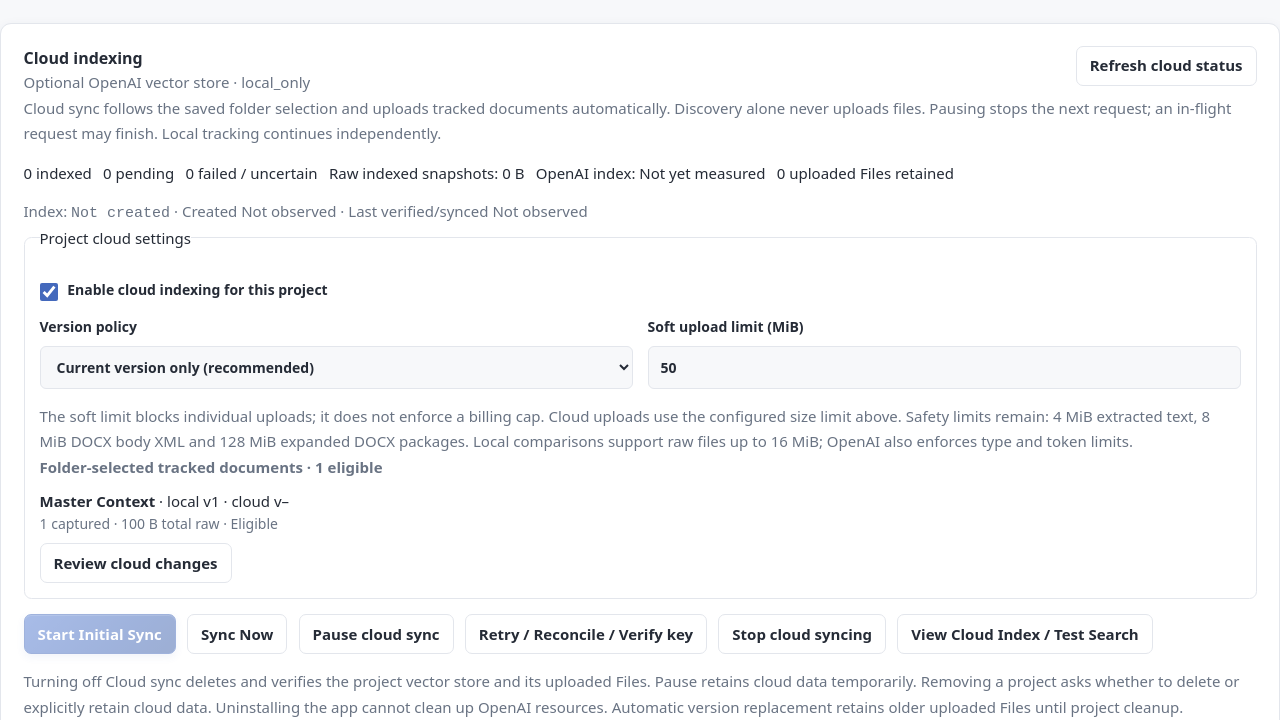
Test: requires confirmation and backend readback for pause and resume
Click the button "Pause cloud sync" at [376, 634], box [299, 614, 454, 654]
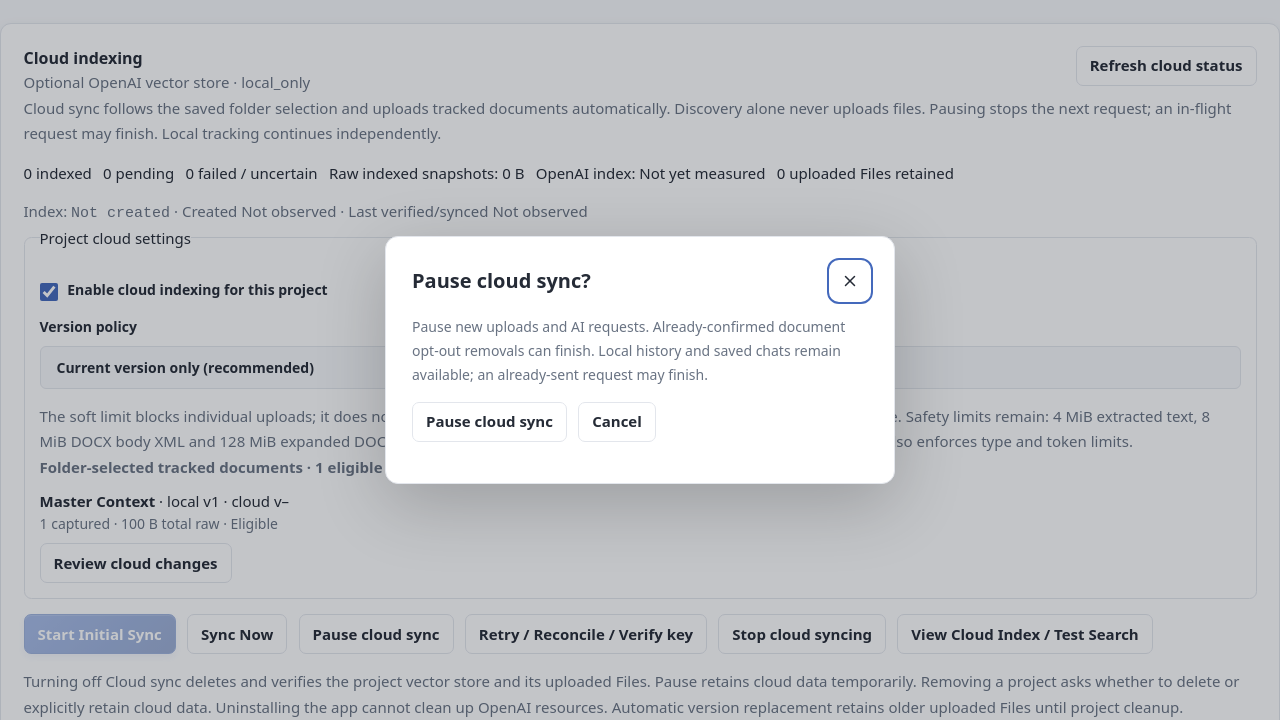
Click the button "Cancel" at [617, 422], box [578, 402, 656, 442]
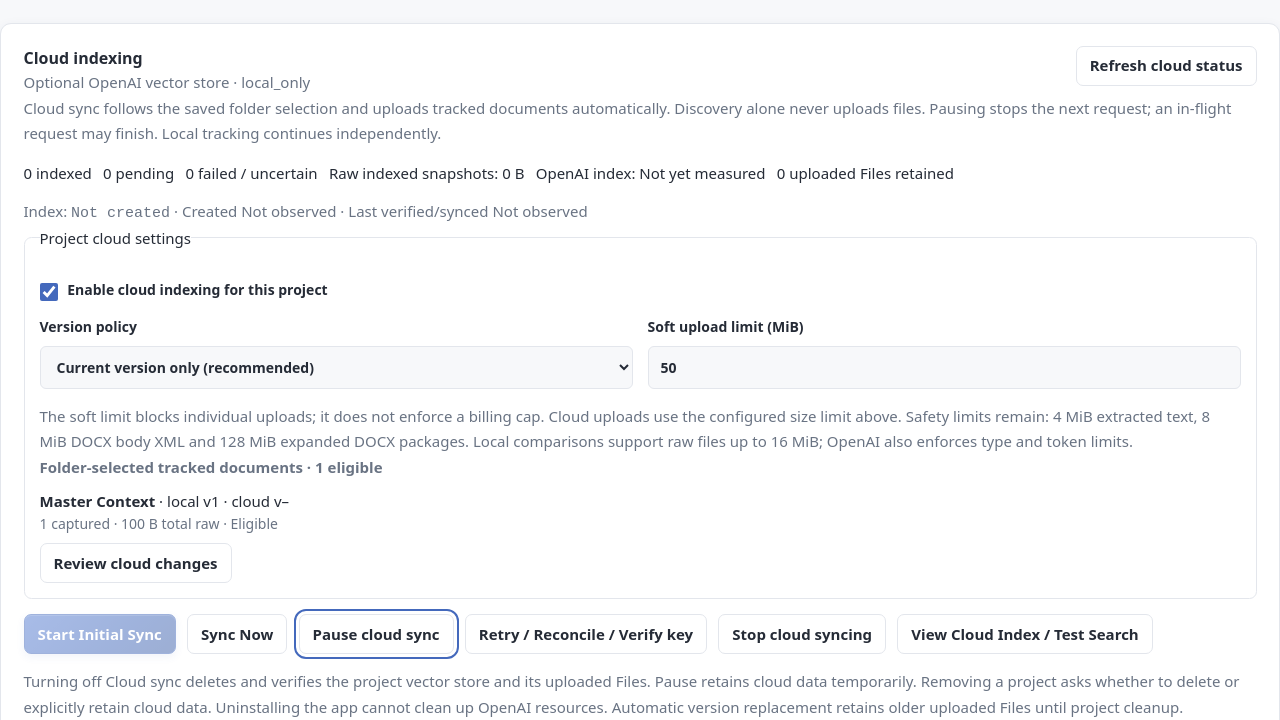
Click the button "Pause cloud sync" at [376, 634], box [299, 614, 454, 654]
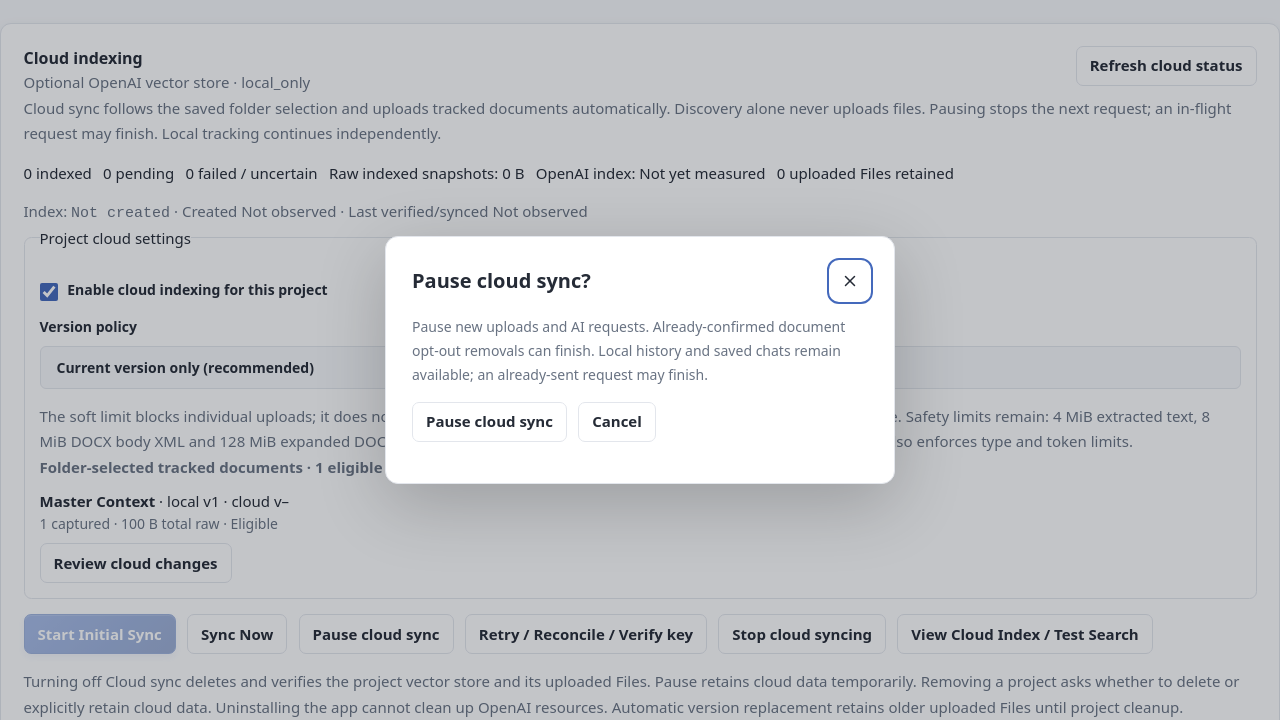
Click the button "Pause cloud sync" at [489, 422], box [412, 402, 567, 442]
(page scrolled)
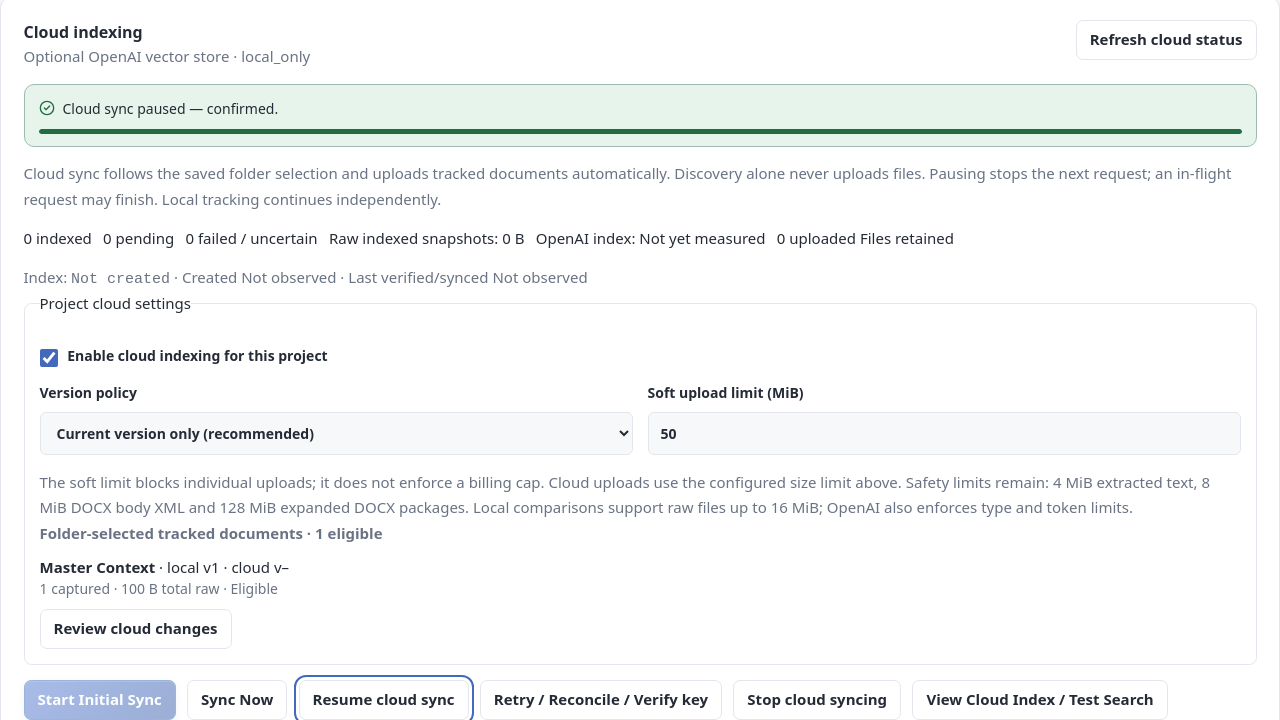
Check: the dialog is gone
Check: the message shows "paused — confirmed", box [62, 98, 278, 118]
Click the button "Resume cloud sync" at [384, 700], box [299, 680, 469, 719]
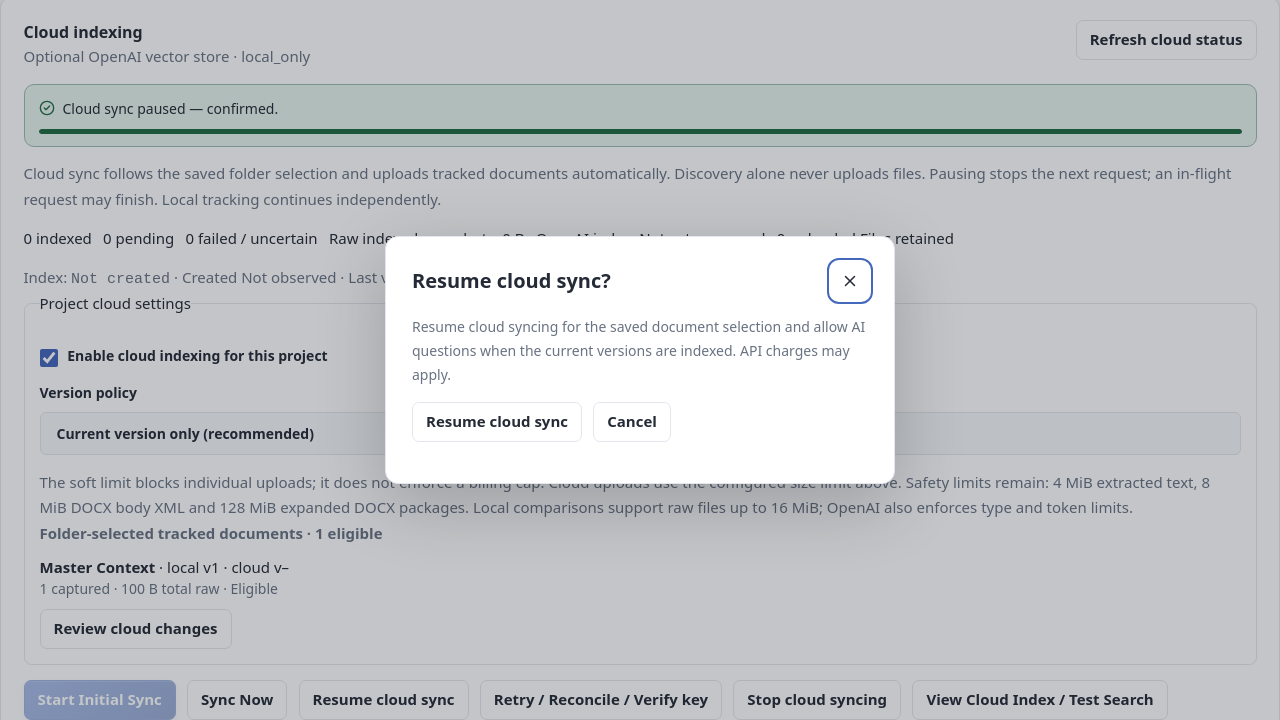
Click the button "Resume cloud sync" at [497, 422], box [412, 402, 582, 442]
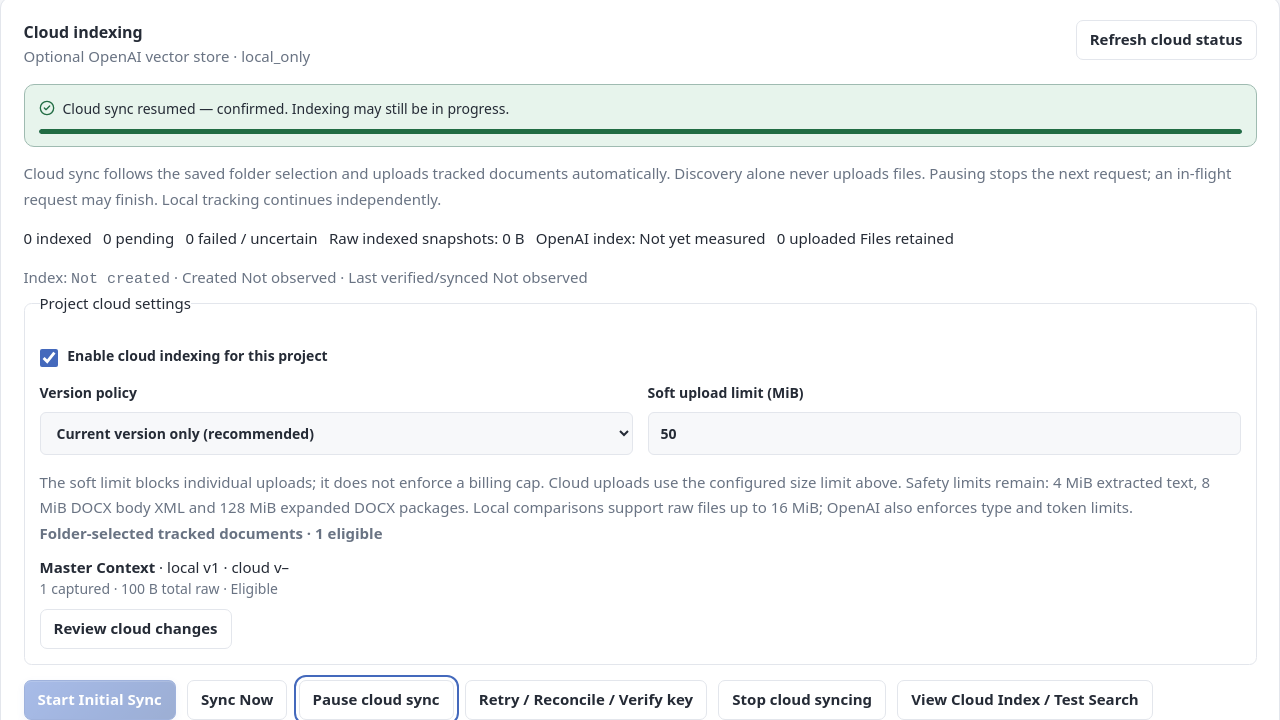
Check: the dialog is gone
Check: the message shows "resumed — confirmed", box [62, 98, 509, 118]
